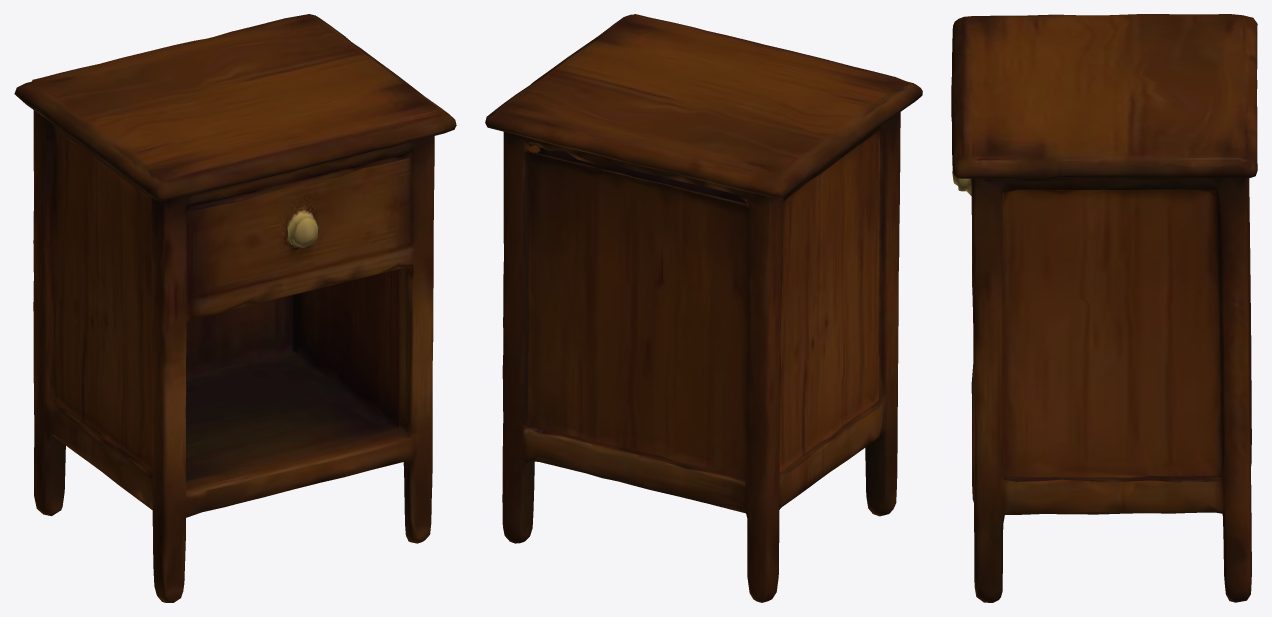
Rendered from velador.glb.
The picture shows the model from 3 angles, left to right: view 1: azimuth 30°, elevation 25°; view 2: azimuth 150°, elevation 25°; view 3: azimuth 270°, elevation 25°; orthographic projection. The views are drawn at different scales.
Parts seen in each view (by area): view 1: geometry_0; view 2: geometry_0; view 3: geometry_0.
Part boxes in pixels (x1,y1,x2,y2): geometry_0: (14, 14, 456, 602); geometry_0: (485, 14, 922, 602); geometry_0: (951, 14, 1257, 602).
Size of the model in its own units: 0.45 by 0.62 by 0.38.
1 material, 1 textured.
